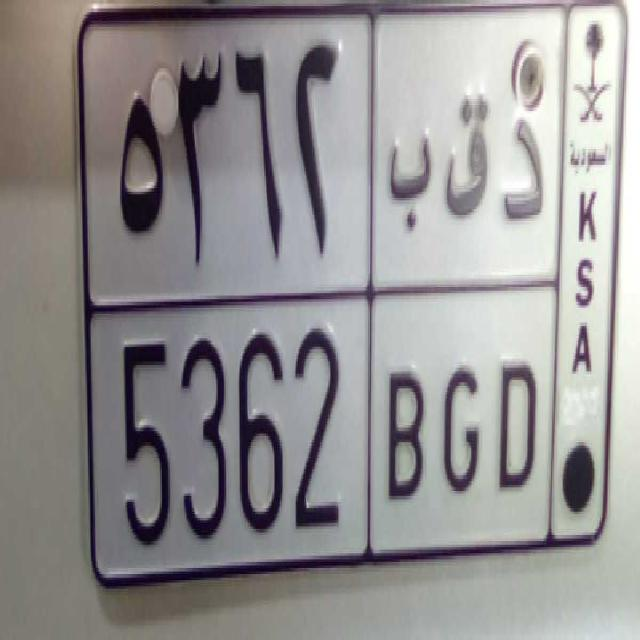license_plate: (107, 293, 548, 584)
